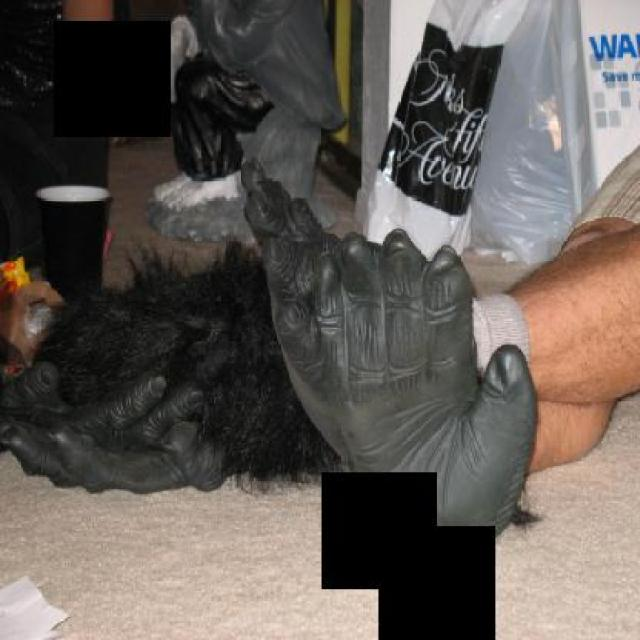plastic bag: (358, 0, 530, 262), (469, 0, 597, 265)
